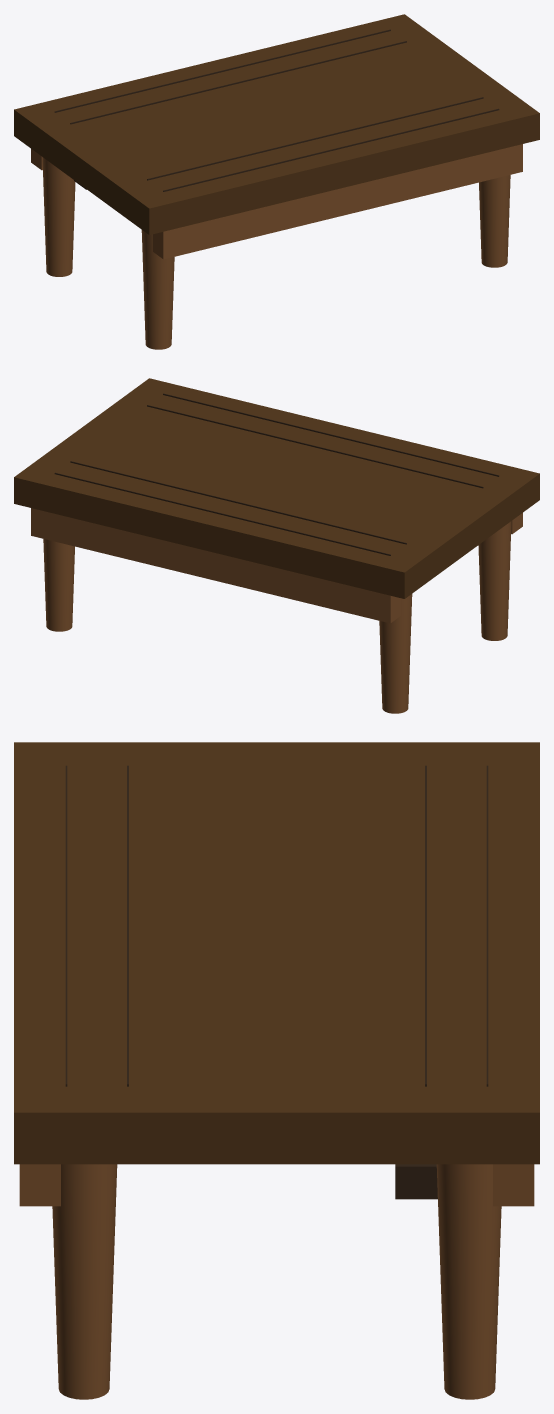
Rendered from mia-low_desk.glb.
3 renders of one model, top to bottom at view 1: azimuth 30°, elevation 25°; view 2: azimuth 150°, elevation 25°; view 3: azimuth 270°, elevation 25°, orthographic. The views are drawn at different scales.
Visible parts, largest first — view 1: Body_wood, Body_oak, Body_grain; view 2: Body_wood, Body_oak, Body_grain; view 3: Body_wood, Body_oak, Body_grain.
Part boxes in pixels (x1,y1,x2,y2): Body_wood: (14,14,539,234); Body_oak: (31,144,522,349); Body_grain: (54,29,499,191); Body_wood: (14,378,539,598); Body_oak: (31,508,522,713); Body_grain: (54,393,499,555); Body_wood: (14,742,539,1164); Body_oak: (19,1164,534,1399); Body_grain: (65,765,488,1199).
Size of the model in its own units: 1 by 0.3835 by 0.6.
